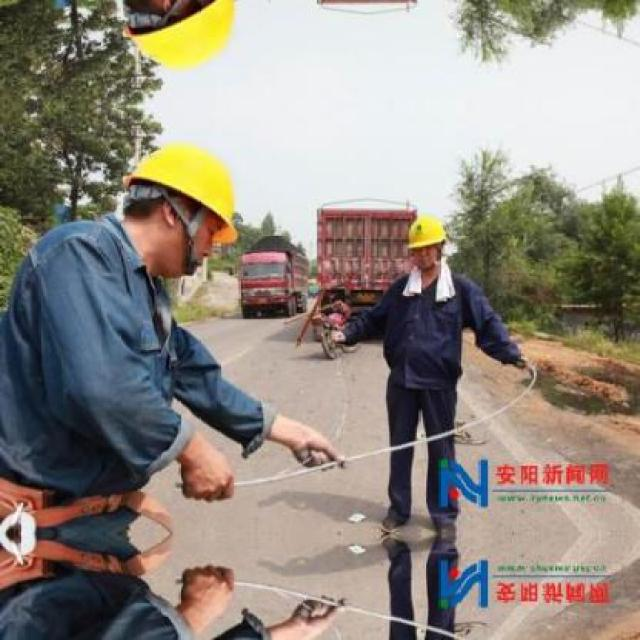helmet: (108, 130, 252, 282), (108, 0, 254, 83), (402, 205, 450, 278)
